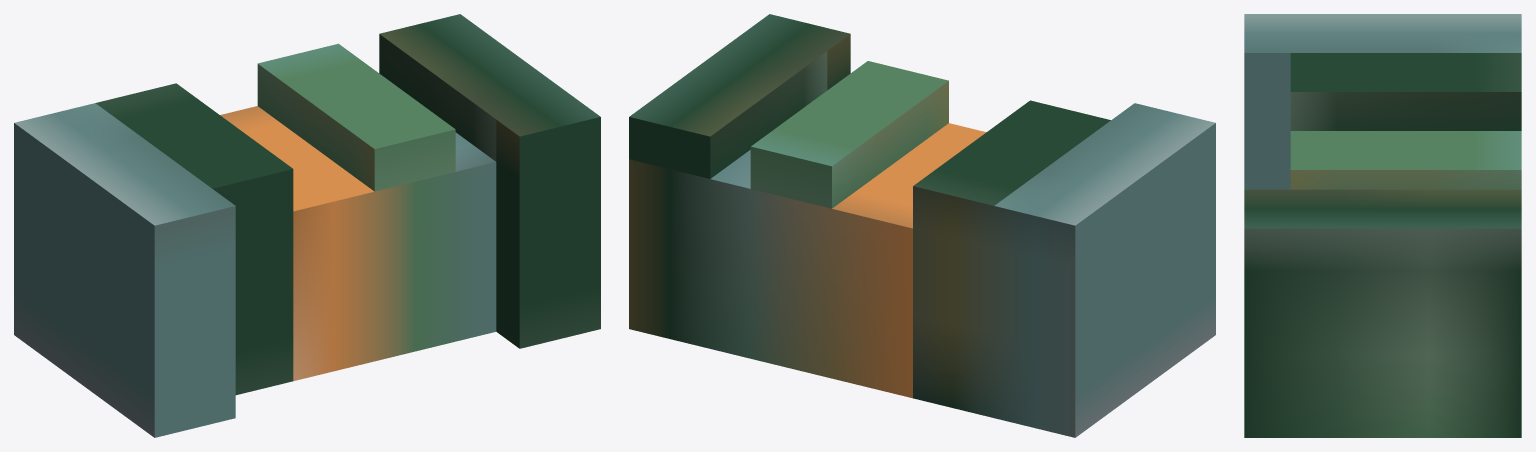
The model's file is AssortedBooks_A_00.obj.
3 renders of one model, left to right at view 1: azimuth 30°, elevation 25°; view 2: azimuth 150°, elevation 25°; view 3: azimuth 270°, elevation 25°, orthographic.
Parts seen in each view (by area): view 1: AssortedBooks_A_00; view 2: AssortedBooks_A_00; view 3: AssortedBooks_A_00.
Part boxes in pixels (left/top/right/bottom): AssortedBooks_A_00: left=14, top=14, right=600, bottom=437; AssortedBooks_A_00: left=629, top=14, right=1215, bottom=437; AssortedBooks_A_00: left=1244, top=14, right=1521, bottom=437.
Size of the model in its own units: 0.55 by 0.25 by 0.3.
